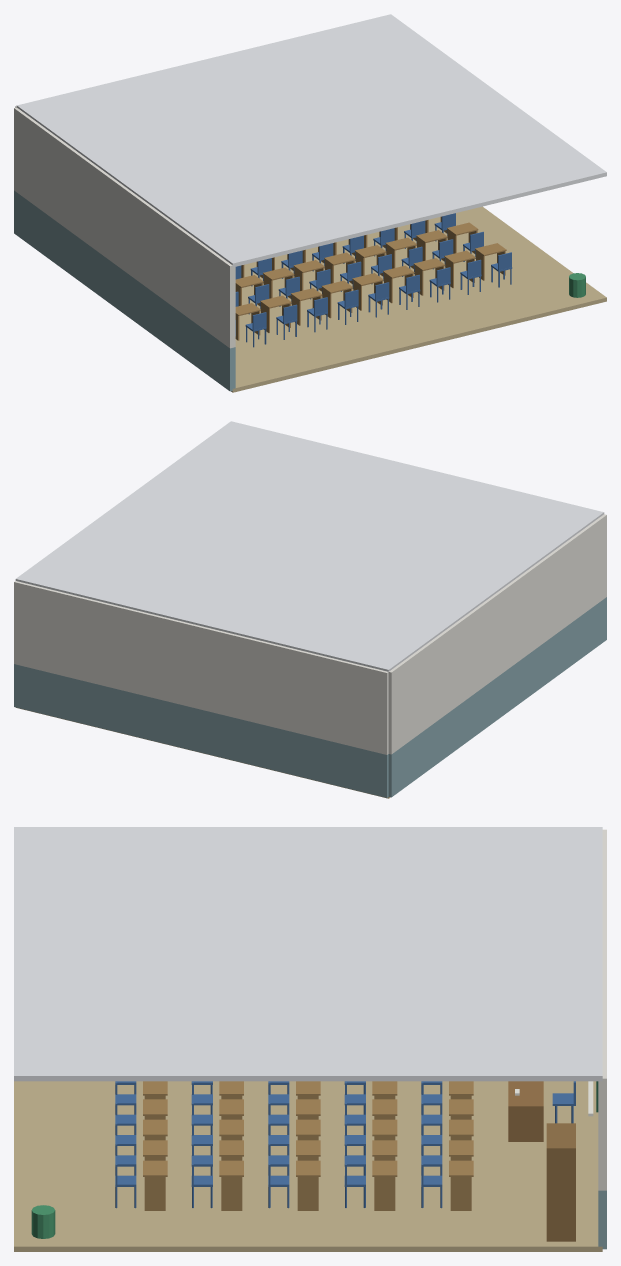
Rendered from coloured_class.glb.
The picture shows the model from 3 angles, top to bottom: view 1: azimuth 30°, elevation 25°; view 2: azimuth 150°, elevation 25°; view 3: azimuth 270°, elevation 25°; orthographic projection. The views are drawn at different scales.
Visible parts, largest first — view 1: Ceiling, Wall_Left, Floor; view 2: Ceiling, Wall_Front, Wall_Left; view 3: Ceiling, Floor, Storage_Cupboard, Wall_Front, Teacher_Desk, Desk_20, Desk_10, Desk_30, Desk_40, Desk_50, Dustbin.
Boxes of the visible parts, left/top/right/bottom form: Ceiling: left=16, top=14, right=606, bottom=267; Wall_Left: left=14, top=107, right=235, bottom=391; Floor: left=231, top=206, right=606, bottom=392; Ceiling: left=15, top=421, right=604, bottom=671; Wall_Front: left=14, top=581, right=388, bottom=797; Wall_Left: left=388, top=514, right=606, bottom=797; Ceiling: left=14, top=827, right=602, bottom=1081; Floor: left=14, top=1081, right=602, bottom=1251; Storage_Cupboard: left=546, top=1123, right=575, bottom=1241; Wall_Front: left=598, top=829, right=606, bottom=1249; Teacher_Desk: left=508, top=1081, right=543, bottom=1141; Desk_20: left=372, top=1160, right=397, bottom=1210; Desk_10: left=449, top=1160, right=473, bottom=1210; Desk_30: left=296, top=1160, right=320, bottom=1210; Desk_40: left=219, top=1160, right=243, bottom=1210; Desk_50: left=143, top=1160, right=167, bottom=1210; Dustbin: left=31, top=1205, right=55, bottom=1238.
Bounding box in the file's own units: 10.08 × 3.3 × 10.07.
